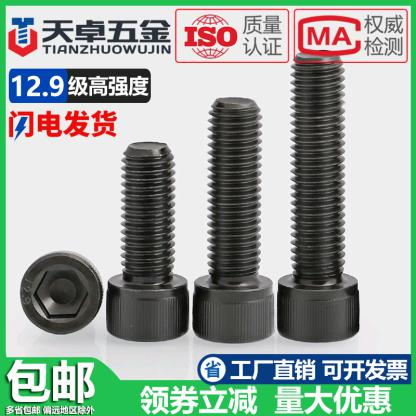FOD: (276, 50, 362, 344), (188, 95, 276, 344), (104, 142, 192, 343), (17, 249, 104, 335)
